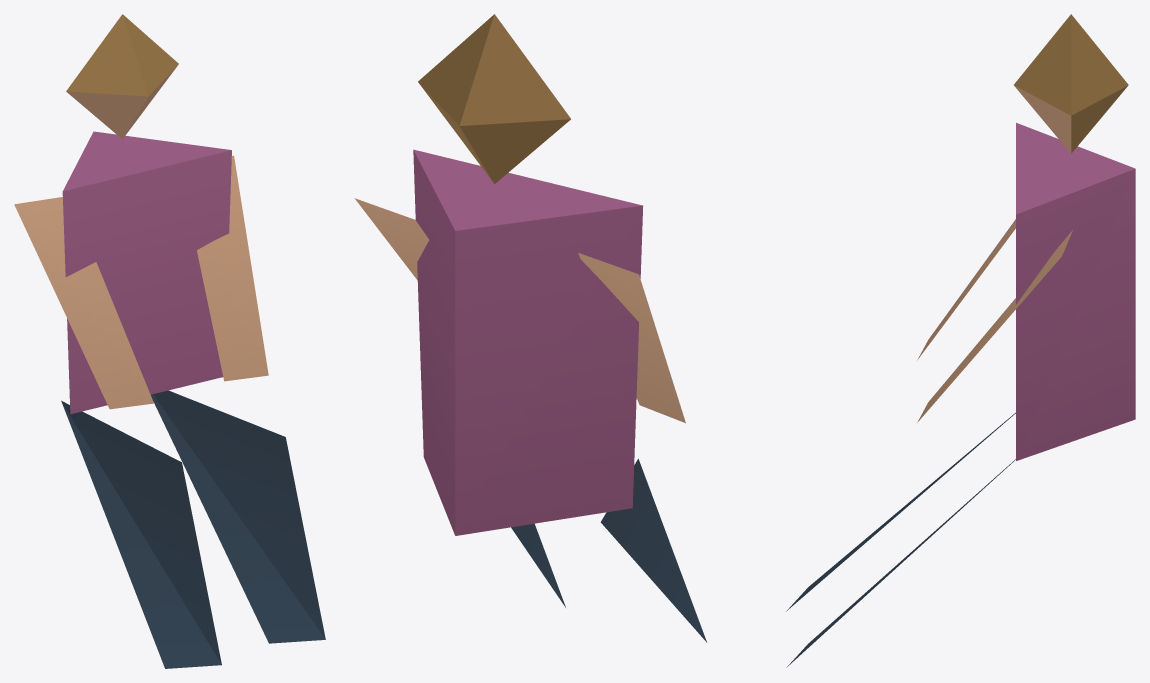
The model's file is fan-05.glb.
The picture shows the model from 3 angles, left to right: view 1: azimuth 30°, elevation 25°; view 2: azimuth 150°, elevation 25°; view 3: azimuth 270°, elevation 25°; orthographic projection. The views are drawn at different scales.
Visible parts, largest first — view 1: fan-05; view 2: fan-05; view 3: fan-05.
Boxes of the visible parts, <box> form: fan-05: <box>14,14,325,668</box>; fan-05: <box>354,14,706,642</box>; fan-05: <box>786,14,1135,667</box>.
Bounding box in the file's own units: 0.6 × 1.47 × 0.76.
